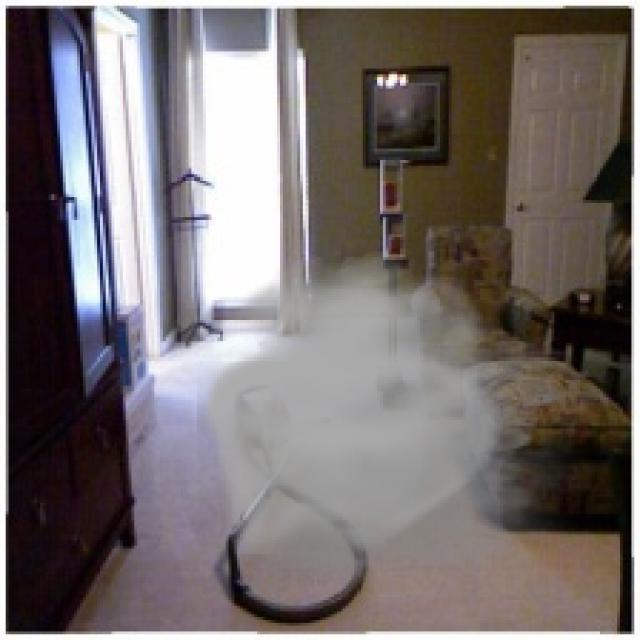Smoke: (197, 251, 606, 600)
